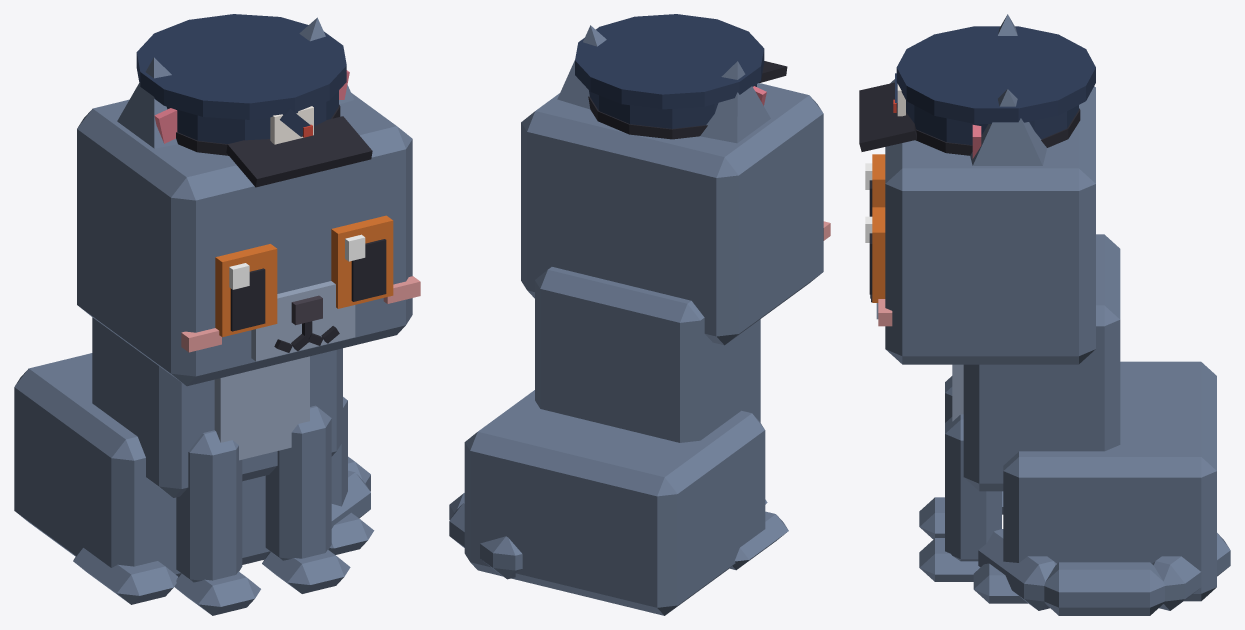
The model's file is CatCafe_Cat_Postie_Sit.glb.
3 renders of one model, left to right at view 1: azimuth 30°, elevation 25°; view 2: azimuth 150°, elevation 25°; view 3: azimuth 270°, elevation 25°, orthographic. The views are drawn at different scales.
Visible parts, largest first — view 1: CatCafe_Cat_Postie_Sit_Head, CatCafe_Cat_Postie_Sit_Body, CatCafe_Cat_Postie_Sit_Prop, CatCafe_Cat_Postie_Sit_LegF2, CatCafe_Cat_Postie_Sit_LegF1, CatCafe_Cat_Postie_Sit_Eye2, CatCafe_Cat_Postie_Sit_Eye1, CatCafe_Cat_Postie_Sit_EarR, CatCafe_Cat_Postie_Sit_Tail, CatCafe_Cat_Postie_Sit_EarL; view 2: CatCafe_Cat_Postie_Sit_Body, CatCafe_Cat_Postie_Sit_Head, CatCafe_Cat_Postie_Sit_Prop, CatCafe_Cat_Postie_Sit_EarR, CatCafe_Cat_Postie_Sit_Tail, CatCafe_Cat_Postie_Sit_EarL; view 3: CatCafe_Cat_Postie_Sit_Body, CatCafe_Cat_Postie_Sit_Head, CatCafe_Cat_Postie_Sit_Prop, CatCafe_Cat_Postie_Sit_Tail, CatCafe_Cat_Postie_Sit_LegF1, CatCafe_Cat_Postie_Sit_EarL, CatCafe_Cat_Postie_Sit_Eye1, CatCafe_Cat_Postie_Sit_LegF2, CatCafe_Cat_Postie_Sit_Eye2.
Part boxes in pixels (<box>): CatCafe_Cat_Postie_Sit_Head: <box>77,93,420,386</box>; CatCafe_Cat_Postie_Sit_Body: <box>14,317,374,604</box>; CatCafe_Cat_Postie_Sit_Prop: <box>136,14,372,187</box>; CatCafe_Cat_Postie_Sit_LegF2: <box>174,430,260,615</box>; CatCafe_Cat_Postie_Sit_LegF1: <box>262,405,350,593</box>; CatCafe_Cat_Postie_Sit_Eye2: <box>215,244,277,337</box>; CatCafe_Cat_Postie_Sit_Eye1: <box>331,215,393,308</box>; CatCafe_Cat_Postie_Sit_EarR: <box>117,57,177,148</box>; CatCafe_Cat_Postie_Sit_Tail: <box>331,456,370,528</box>; CatCafe_Cat_Postie_Sit_EarL: <box>299,17,354,104</box>; CatCafe_Cat_Postie_Sit_Body: <box>464,267,788,615</box>; CatCafe_Cat_Postie_Sit_Head: <box>521,83,830,345</box>; CatCafe_Cat_Postie_Sit_Prop: <box>575,14,787,139</box>; CatCafe_Cat_Postie_Sit_EarR: <box>700,61,770,143</box>; CatCafe_Cat_Postie_Sit_Tail: <box>449,493,522,579</box>; CatCafe_Cat_Postie_Sit_EarL: <box>557,25,606,109</box>; CatCafe_Cat_Postie_Sit_Body: <box>952,234,1216,603</box>; CatCafe_Cat_Postie_Sit_Head: <box>870,79,1095,364</box>; CatCafe_Cat_Postie_Sit_Prop: <box>859,26,1095,155</box>; CatCafe_Cat_Postie_Sit_Tail: <box>978,529,1230,615</box>; CatCafe_Cat_Postie_Sit_LegF1: <box>919,414,1001,581</box>; CatCafe_Cat_Postie_Sit_EarL: <box>970,89,1046,165</box>; CatCafe_Cat_Postie_Sit_Eye1: <box>865,207,885,302</box>; CatCafe_Cat_Postie_Sit_LegF2: <box>919,376,952,539</box>; CatCafe_Cat_Postie_Sit_Eye2: <box>865,154,885,216</box>.
Bounding box in the file's own units: 1.05 × 1.85 × 1.24.
1 material, 1 textured.
